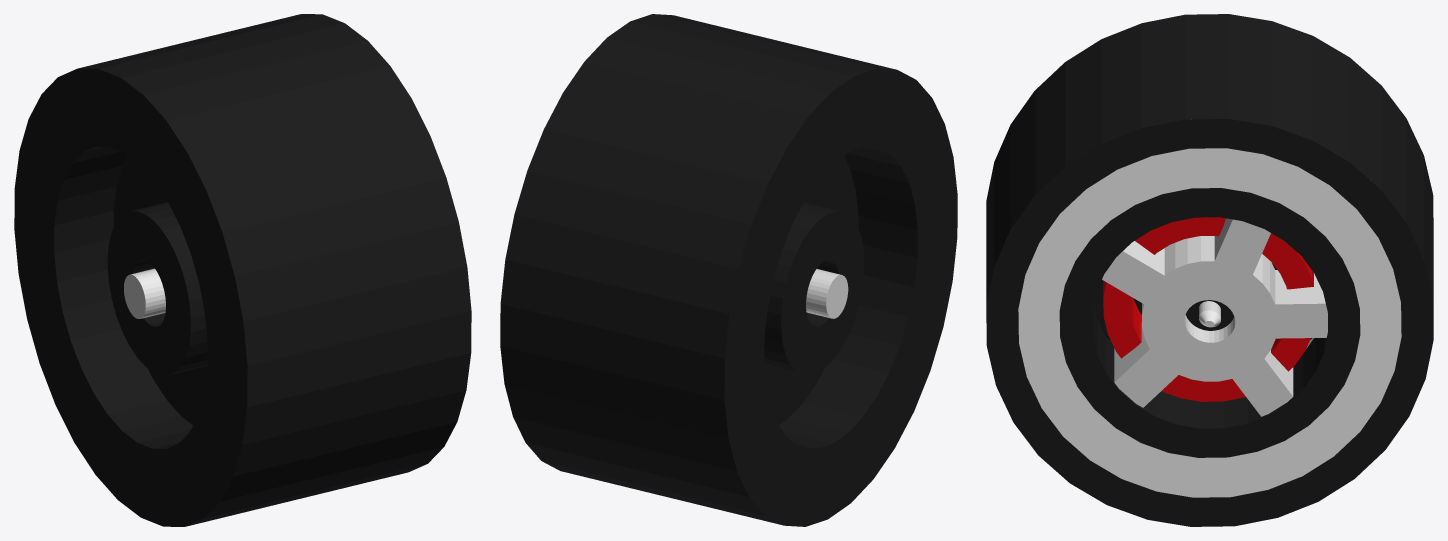
File: RodaNova.fbx
3 renders of one model, left to right at view 1: azimuth 30°, elevation 25°; view 2: azimuth 150°, elevation 25°; view 3: azimuth 270°, elevation 25°, orthographic. The views are drawn at different scales.
Parts seen in each view (by area): view 1: Cylinder; view 2: Cylinder; view 3: Cylinder.
Boxes of the visible parts, left/top/right/bottom form: Cylinder: left=14, top=14, right=471, bottom=526; Cylinder: left=500, top=14, right=957, bottom=526; Cylinder: left=986, top=14, right=1433, bottom=526.
Size of the model in its own units: 19.95 by 35.97 by 35.75.
